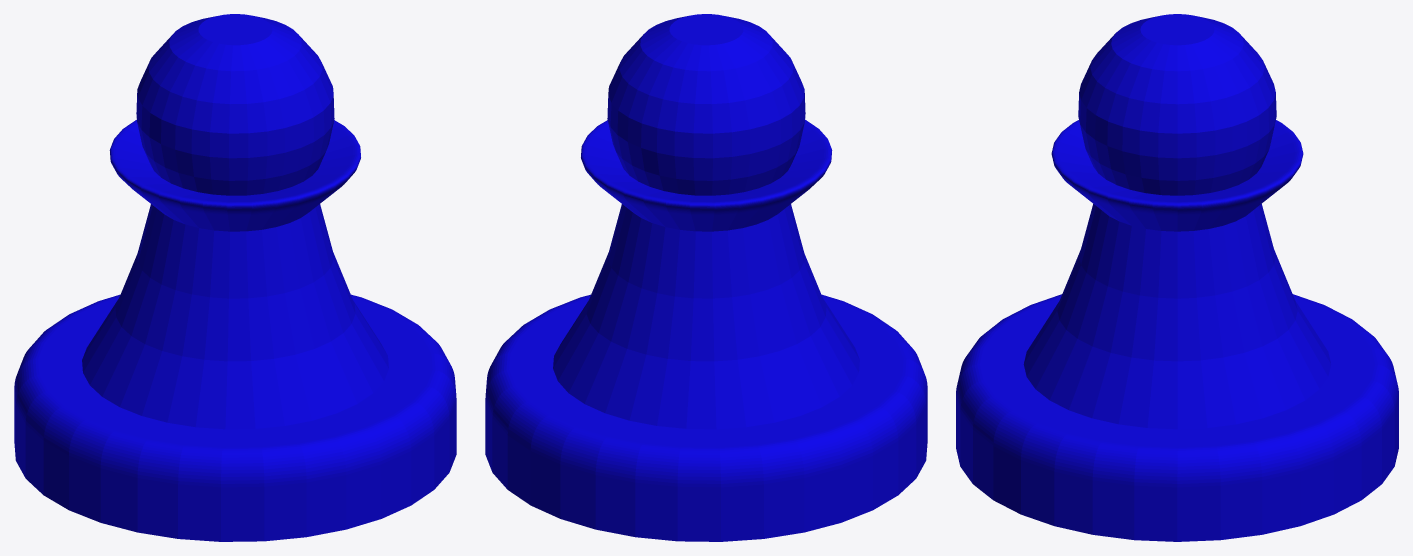
The model's file is BluePawn.fbx.
3 renders of one model, left to right at view 1: azimuth 30°, elevation 25°; view 2: azimuth 150°, elevation 25°; view 3: azimuth 270°, elevation 25°, orthographic.
Parts seen in each view (by area): view 1: Cylinder; view 2: Cylinder; view 3: Cylinder.
Part boxes in pixels (<box>): Cylinder: <box>14,14,456,541</box>; Cylinder: <box>485,14,927,541</box>; Cylinder: <box>956,14,1398,541</box>.
Bounding box in the file's own units: 22.44 × 23.4 × 22.44.
